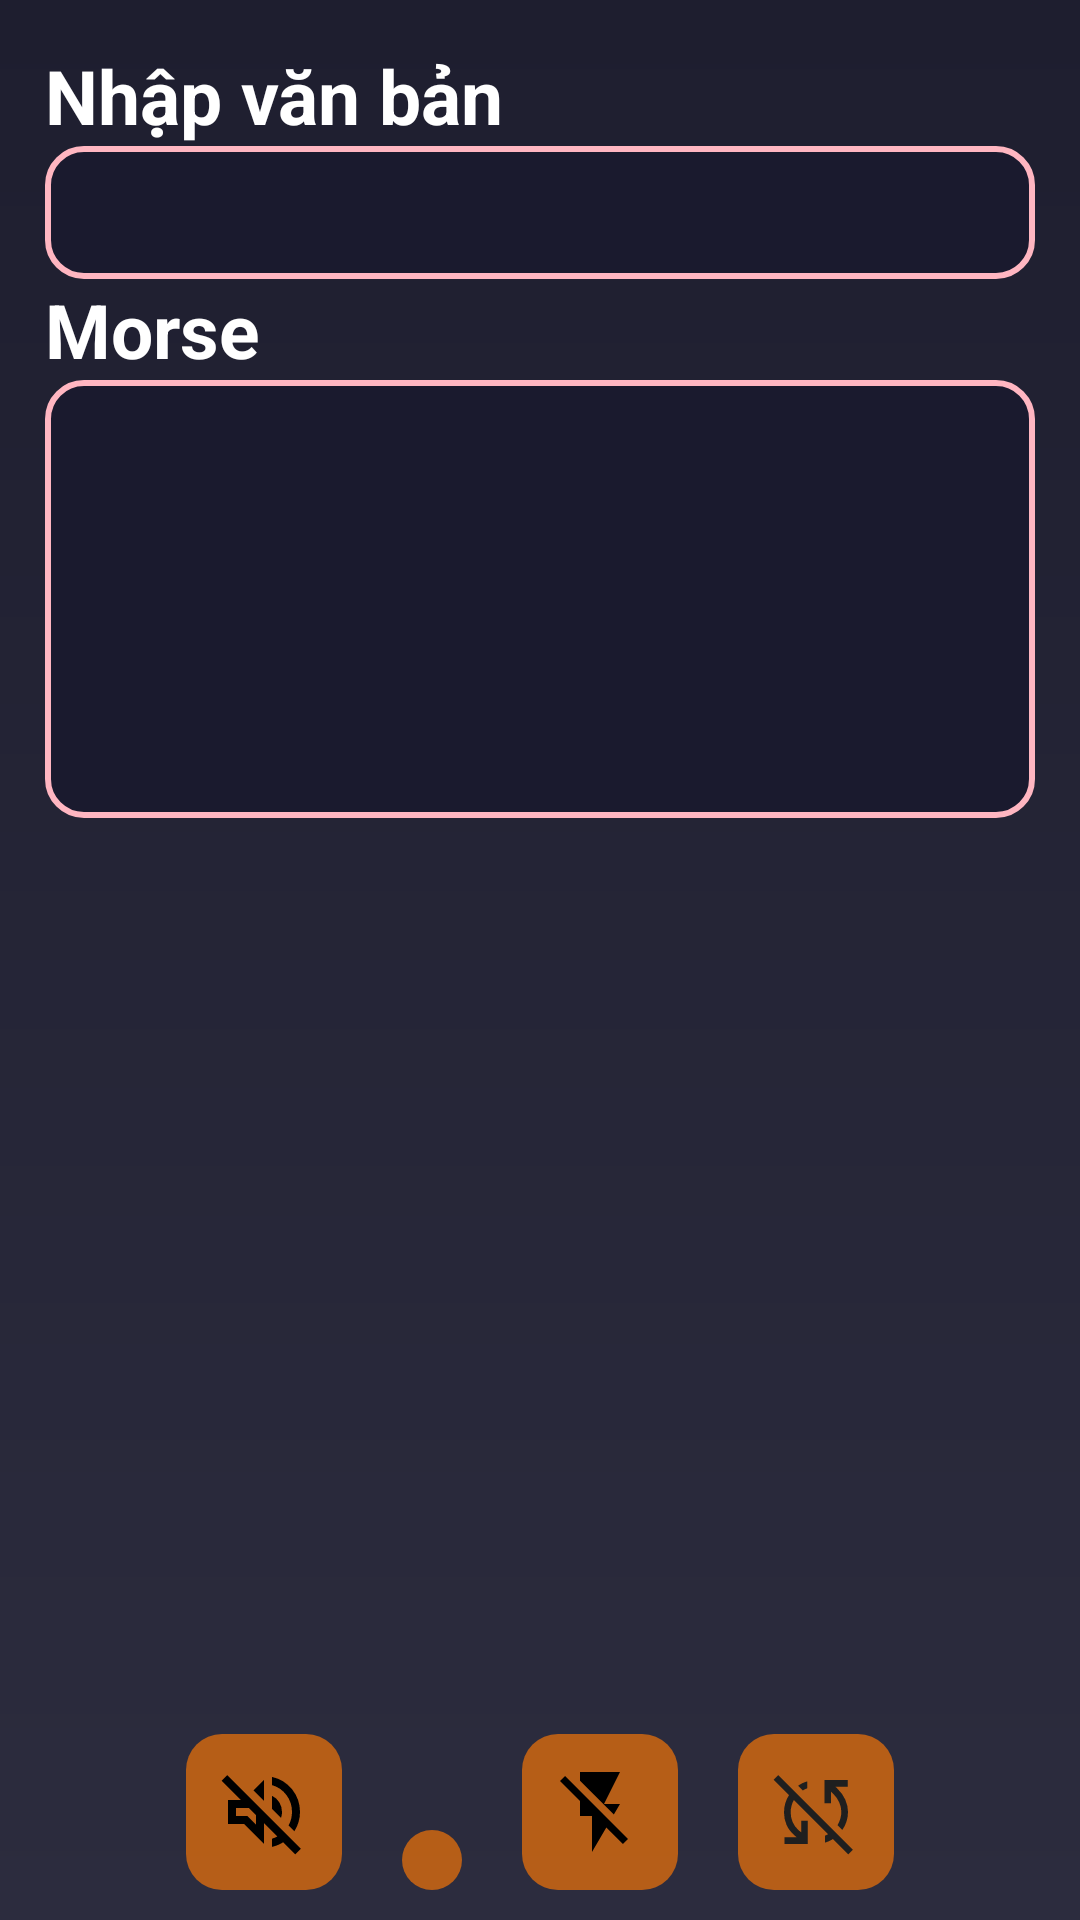

Named icons in this screenshot (1080px×1920px) and their bounding boxes, (x1, y1, x2, y2):
flash off: (522, 1734, 678, 1890)
Lặp lại: (738, 1734, 894, 1890)
volume off: (186, 1734, 342, 1890)
